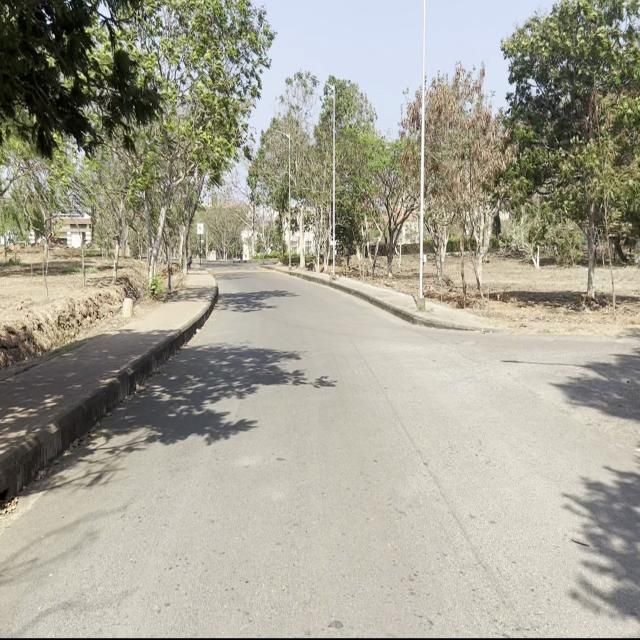Road: (5, 264, 636, 632)
